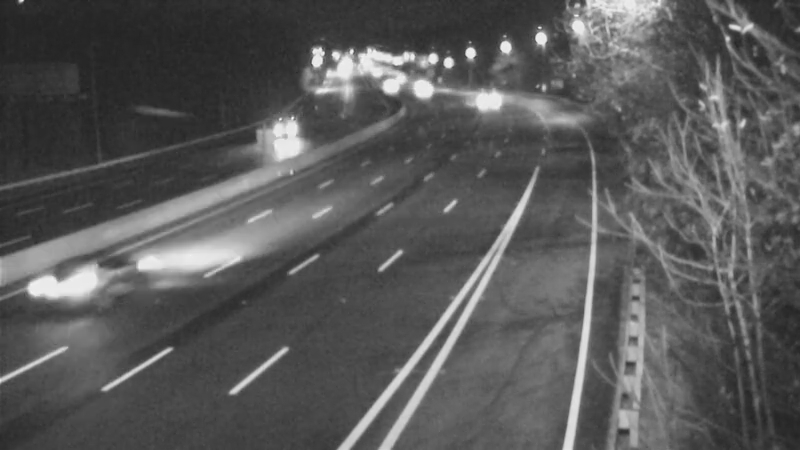vehicle: (27, 244, 107, 324), (362, 63, 412, 113), (391, 65, 441, 115), (458, 72, 508, 122), (261, 102, 311, 152)
